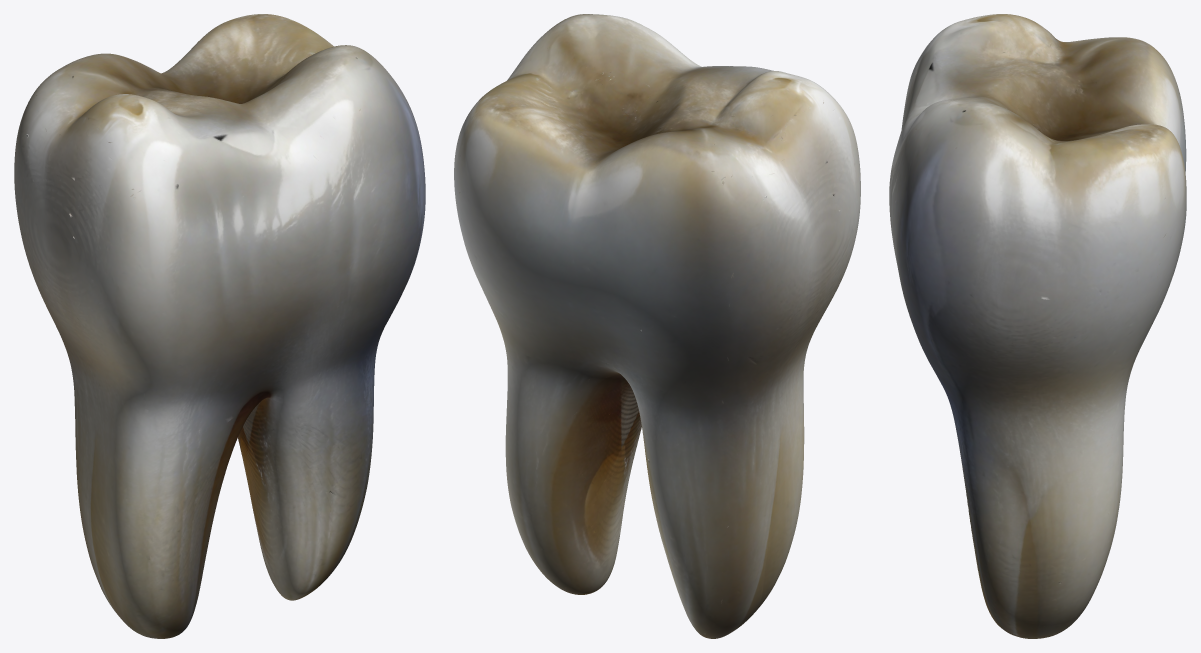
Rendered from a_white_tooth_molar_t_0219081814_texture.glb.
3 views of the same model, side by side, from view 1: azimuth 30°, elevation 25°; view 2: azimuth 150°, elevation 25°; view 3: azimuth 270°, elevation 25° (orthographic). The views are drawn at different scales.
Size of the model in its own units: 1.25 by 2 by 0.9755.
Materials: 1 (1 with a texture image).
